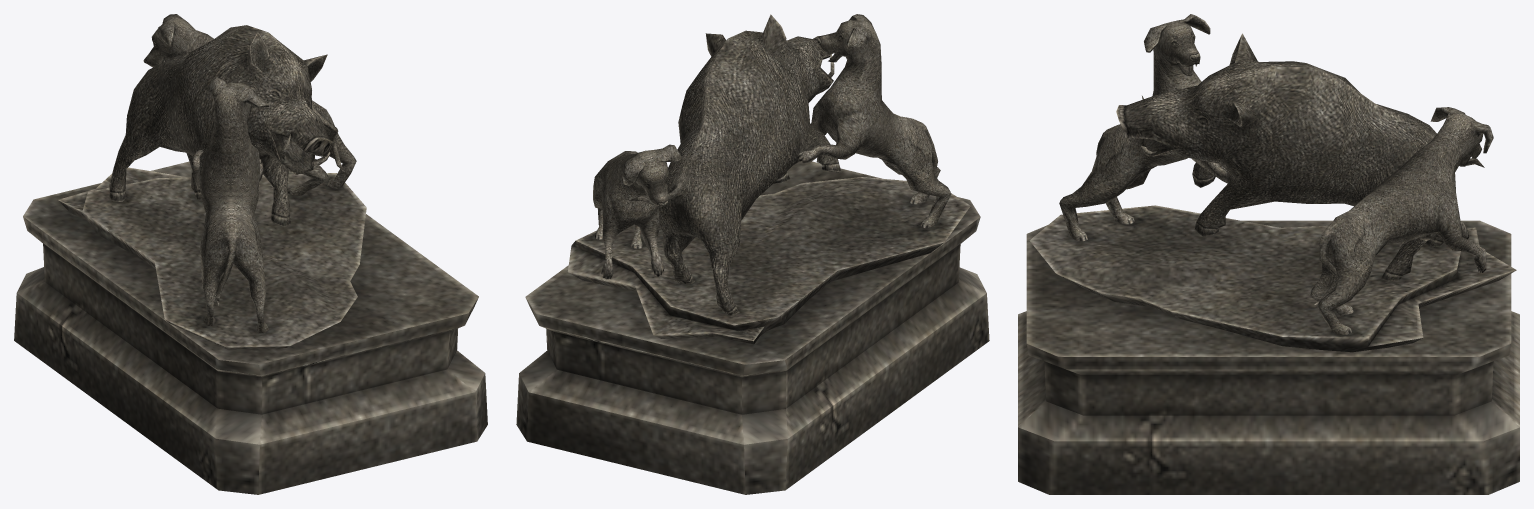
Rendered from dogsBoarStatue.dae.
3 renders of one model, left to right at view 1: azimuth 30°, elevation 25°; view 2: azimuth 150°, elevation 25°; view 3: azimuth 270°, elevation 25°, orthographic. The views are drawn at different scales.
Parts seen in each view (by area): view 1: Dogs_Boar_statue; view 2: Dogs_Boar_statue; view 3: Dogs_Boar_statue.
Part boxes in pixels (x1,y1,x2,y2): Dogs_Boar_statue: (14, 14, 487, 494); Dogs_Boar_statue: (516, 14, 989, 494); Dogs_Boar_statue: (1018, 14, 1519, 494).
Size of the model in its own units: 1.65 by 2.08 by 2.43.
1 material, 1 textured.
